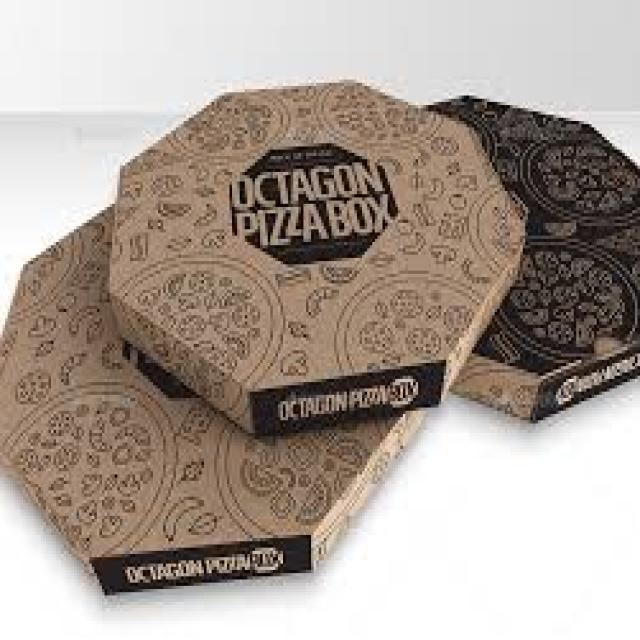cardboard: (0, 201, 421, 592), (105, 77, 523, 437), (416, 93, 638, 421)
